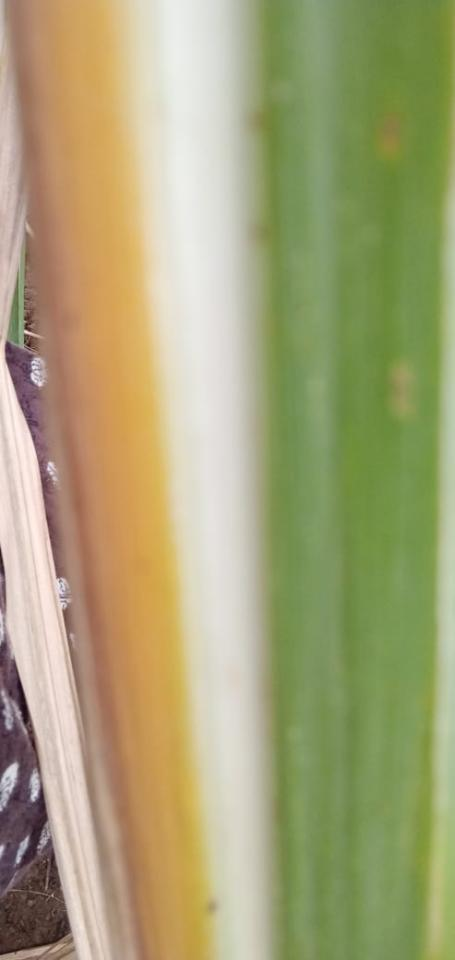Yellow: (0, 0, 223, 959)
